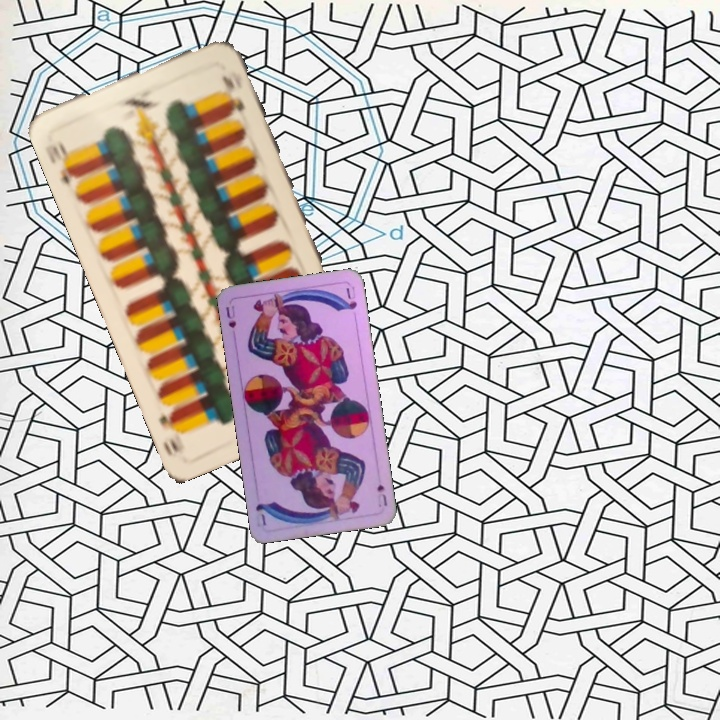E10: (41, 137, 82, 188)
SU: (222, 302, 239, 340), (373, 480, 390, 510)
